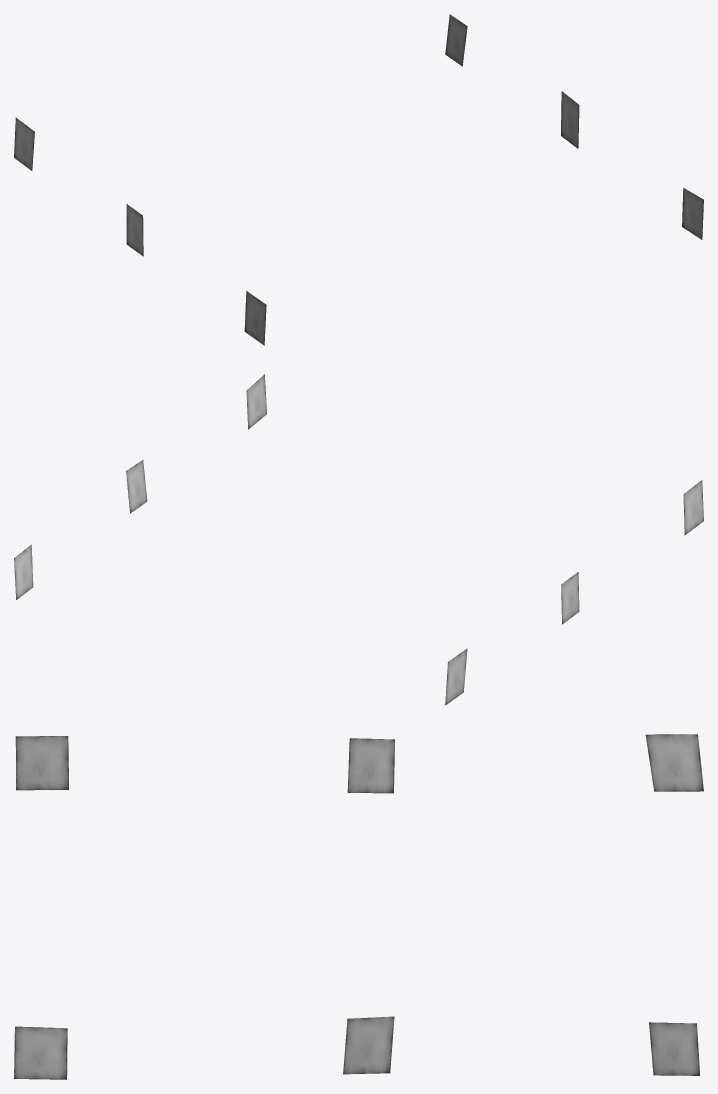
File: Dragonfly_Abduction_Windows.fbx
3 views of the same model, one above another, from view 1: azimuth 30°, elevation 25°; view 2: azimuth 150°, elevation 25°; view 3: azimuth 270°, elevation 25° (orthographic). The views are drawn at different scales.
Visible parts, largest first — view 1: Windows.002, Windows.005, Windows.004, Windows.000, Windows.003, Windows.001; view 2: Windows.002, Windows.000, Windows.004, Windows.005, Windows.003, Windows.001; view 3: Windows.000, Windows.002, Windows.005, Windows.004, Windows.003, Windows.001.
Boxes of the visible parts, x1=… form: Windows.002: x1=244, y1=291, x2=266, y2=345; Windows.005: x1=682, y1=188, x2=703, y2=239; Windows.004: x1=561, y1=91, x2=579, y2=148; Windows.000: x1=14, y1=117, x2=34, y2=170; Windows.003: x1=445, y1=14, x2=467, y2=66; Windows.001: x1=126, y1=204, x2=143, y2=256; Windows.002: x1=683, y1=480, x2=703, y2=535; Windows.000: x1=445, y1=648, x2=467, y2=705; Windows.004: x1=126, y1=460, x2=147, y2=513; Windows.005: x1=246, y1=374, x2=266, y2=429; Windows.003: x1=14, y1=544, x2=33, y2=599; Windows.001: x1=561, y1=572, x2=579, y2=624; Windows.000: x1=645, y1=734, x2=703, y2=791; Windows.002: x1=15, y1=736, x2=68, y2=790; Windows.005: x1=14, y1=1026, x2=67, y2=1079; Windows.004: x1=343, y1=1016, x2=394, y2=1074; Windows.003: x1=649, y1=1022, x2=699, y2=1075; Windows.001: x1=347, y1=738, x2=394, y2=793.
Size of the model in its own units: 24.52 by 2.52 by 24.68.
